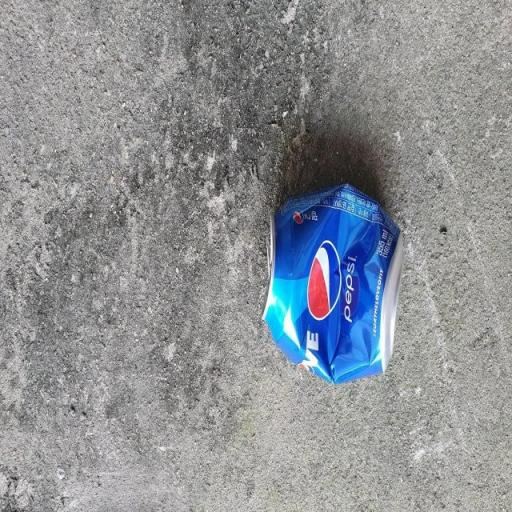metal: (252, 177, 414, 388)
